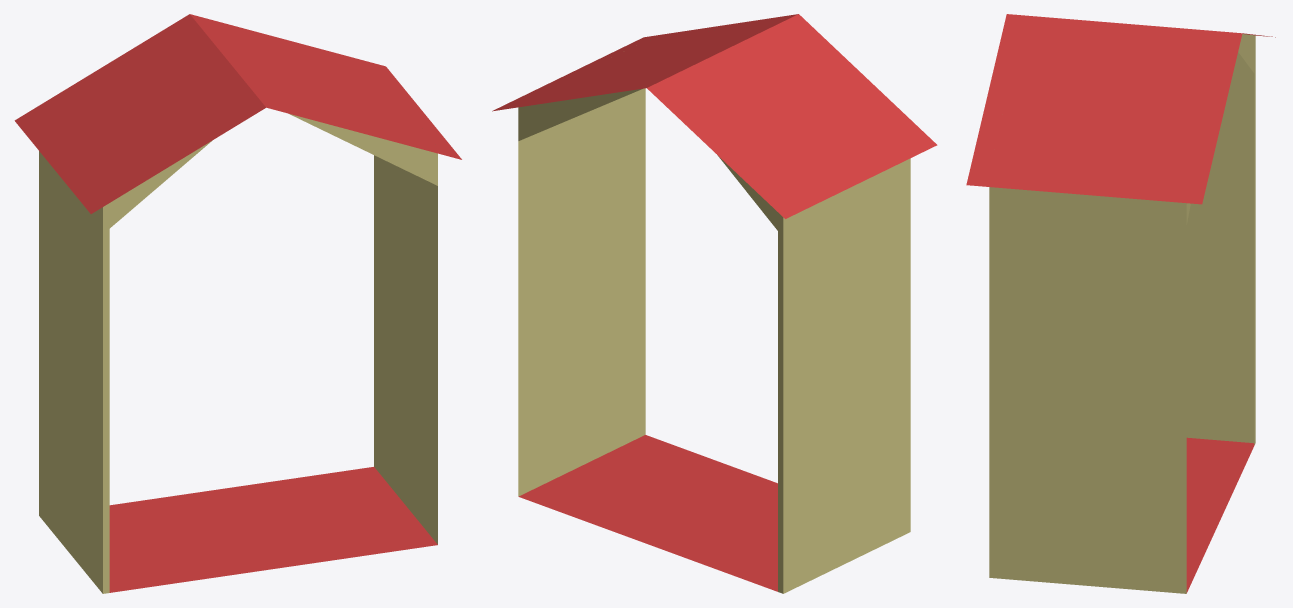
The picture shows the model from 3 angles, left to right: view 1: azimuth 30°, elevation 25°; view 2: azimuth 150°, elevation 25°; view 3: azimuth 270°, elevation 25°; orthographic projection. The views are drawn at different scales.
Size of the model in its own units: 11.18 by 7.92 by 13.49.
